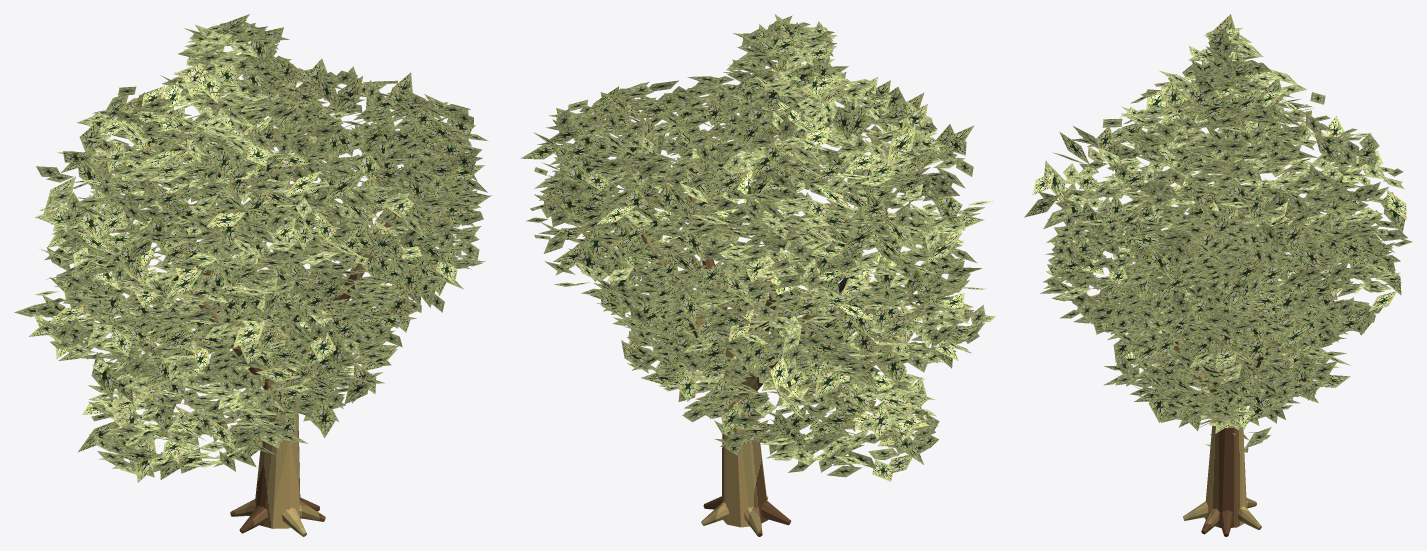
File: cg_silverleaf.glb
The picture shows the model from 3 angles, left to right: view 1: azimuth 30°, elevation 25°; view 2: azimuth 150°, elevation 25°; view 3: azimuth 270°, elevation 25°; orthographic projection. The views are drawn at different scales.
Visible parts, largest first — view 1: Canopy, Body; view 2: Canopy, Body; view 3: Canopy, Body.
Part boxes in pixels (bbox=[...]): Canopy: bbox=[14, 14, 491, 482]; Body: bbox=[171, 166, 396, 536]; Canopy: bbox=[521, 14, 995, 481]; Body: bbox=[640, 196, 854, 536]; Canopy: bbox=[1024, 14, 1412, 452]; Body: bbox=[1129, 207, 1304, 536].
Bounding box in the file's own units: 7.48 × 8.4 × 6.37.
Materials: 2 (2 with a texture image).
